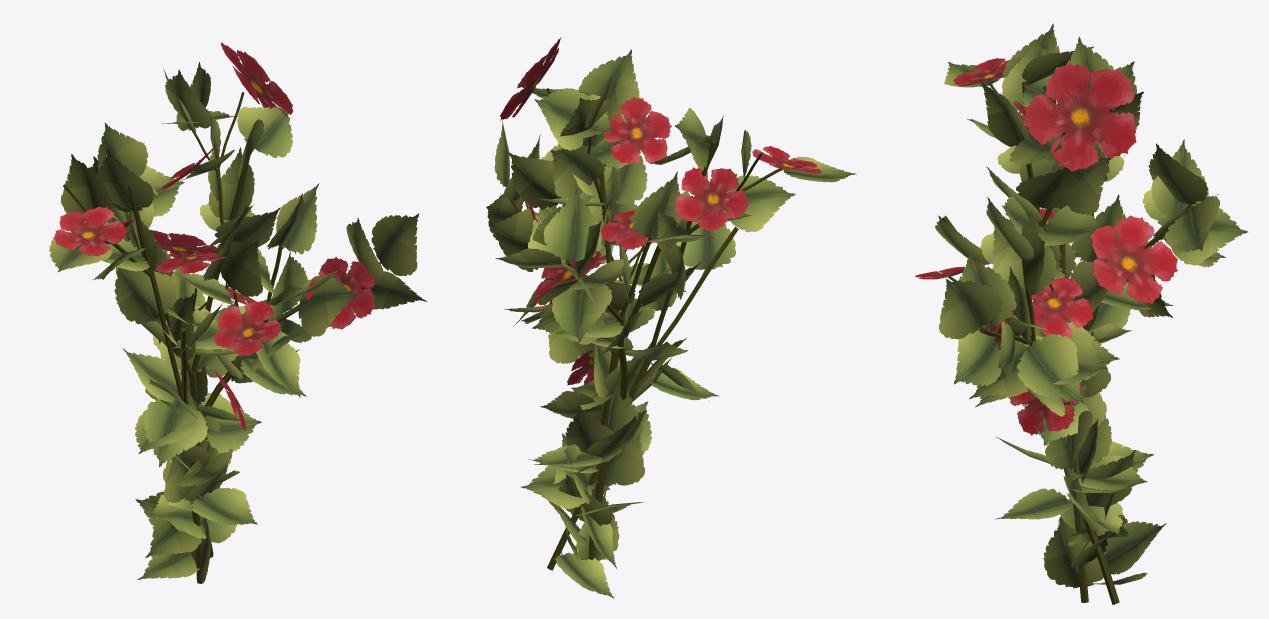
Rendered from 3D_PottedPlant.fbx.
3 views of the same model, side by side, from view 1: azimuth 30°, elevation 25°; view 2: azimuth 150°, elevation 25°; view 3: azimuth 270°, elevation 25° (orthographic). The views are drawn at different scales.
Visible parts, largest first — view 1: Cylinder.004, Hibiscus.003, Plane.068, Hibiscus.009, Plane.083, Plane.037, Hibiscus.011, Plane.039, Plane.010, Hibiscus.007, Plane.097, Plane.058 (+30 smaller); view 2: Cylinder.004, Hibiscus.006, Hibiscus.010, Plane.085, Plane.088, Plane.004, Plane.050, Plane.059, Plane.009, Plane.007, Plane.082, Plane.093 (+41 smaller); view 3: Hibiscus.007, Hibiscus.005, Plane.040, Cylinder.004, Plane.037, Hibiscus.008, Plane.023, Plane.042, Plane.084, Plane.085, Plane.076, Plane.013 (+43 smaller).
Part boxes in pixels (<box>): Cylinder.004: <box>63,92,299,583</box>; Hibiscus.003: <box>213,300,281,356</box>; Plane.068: <box>114,267,176,324</box>; Hibiscus.009: <box>53,206,127,256</box>; Plane.083: <box>144,398,207,467</box>; Plane.037: <box>371,213,418,275</box>; Hibiscus.011: <box>306,256,375,329</box>; Plane.039: <box>294,275,357,336</box>; Plane.010: <box>237,107,292,157</box>; Hibiscus.007: <box>220,42,293,123</box>; Plane.097: <box>215,240,262,296</box>; Plane.058: <box>61,153,112,220</box>; Cylinder.004: <box>504,88,783,570</box>; Hibiscus.006: <box>674,166,748,231</box>; Hibiscus.010: <box>604,97,671,163</box>; Plane.085: <box>543,187,601,262</box>; Plane.088: <box>551,284,612,342</box>; Plane.004: <box>551,144,606,198</box>; Plane.050: <box>508,152,561,209</box>; Plane.059: <box>726,175,795,232</box>; Plane.009: <box>578,49,640,114</box>; Plane.007: <box>534,88,587,150</box>; Plane.082: <box>675,213,735,274</box>; Plane.093: <box>631,171,682,238</box>; Hibiscus.007: <box>1023,62,1136,171</box>; Hibiscus.005: <box>1091,215,1177,303</box>; Plane.040: <box>1017,334,1083,403</box>; Cylinder.004: <box>942,82,1193,604</box>; Plane.037: <box>939,278,1002,339</box>; Hibiscus.008: <box>1031,276,1093,337</box>; Plane.023: <box>1043,517,1105,588</box>; Plane.042: <box>954,330,1001,386</box>; Plane.084: <box>1164,196,1219,251</box>; Plane.085: <box>1148,143,1208,208</box>; Plane.076: <box>1104,521,1166,574</box>; Plane.013: <box>1016,168,1080,208</box>.
Bounding box in the file's own units: 547 × 726 × 404.
